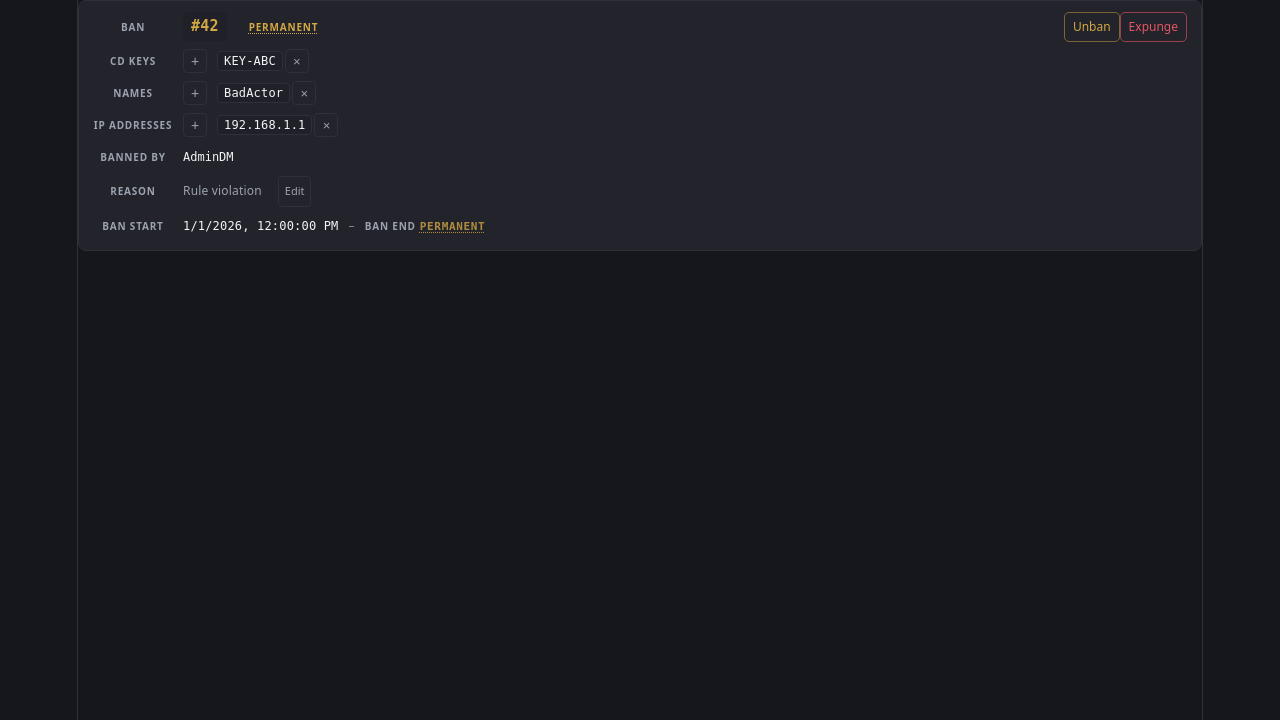
Scenario: BannedPlayerItem › editing the ban reason › shows an input with the current reason when Edit is clicked
The image size is (1280, 720).
Click the button with aria-label "edit ban reason" at (295,192), box [278,176,312,207]
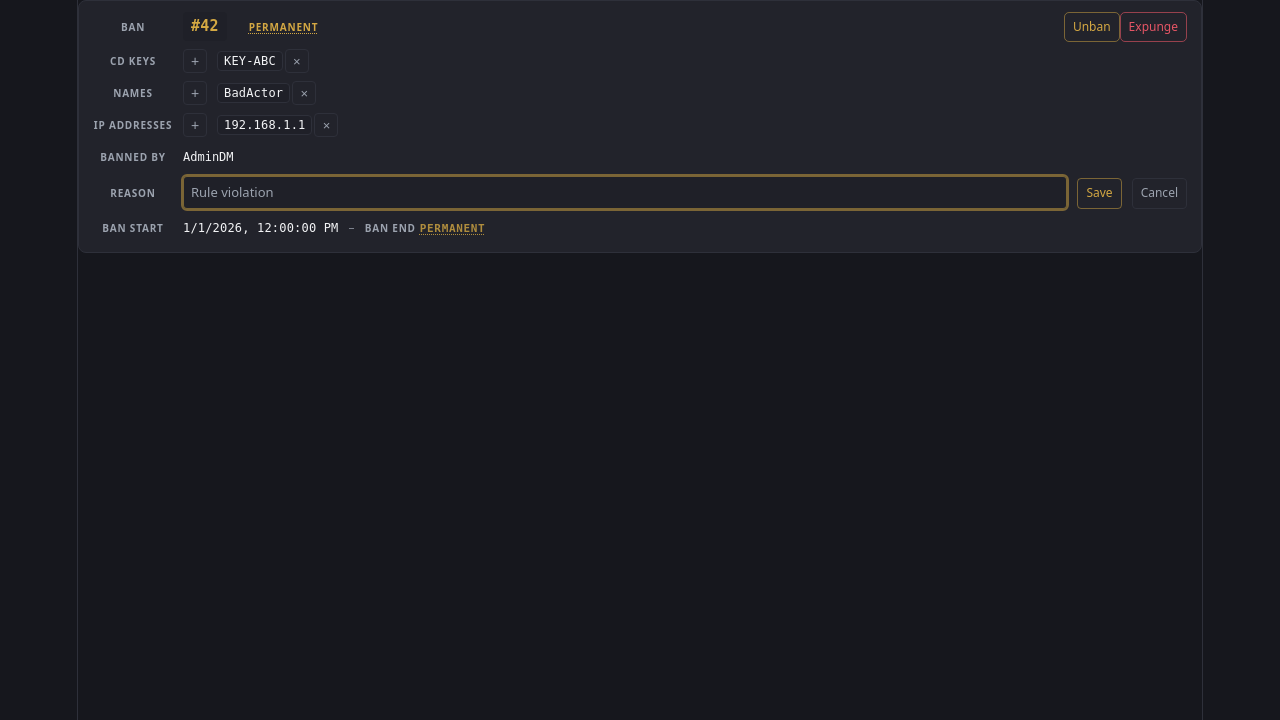
Expected: the field named "ban reason" holds "Rule violation", [183,176,1068,209]
